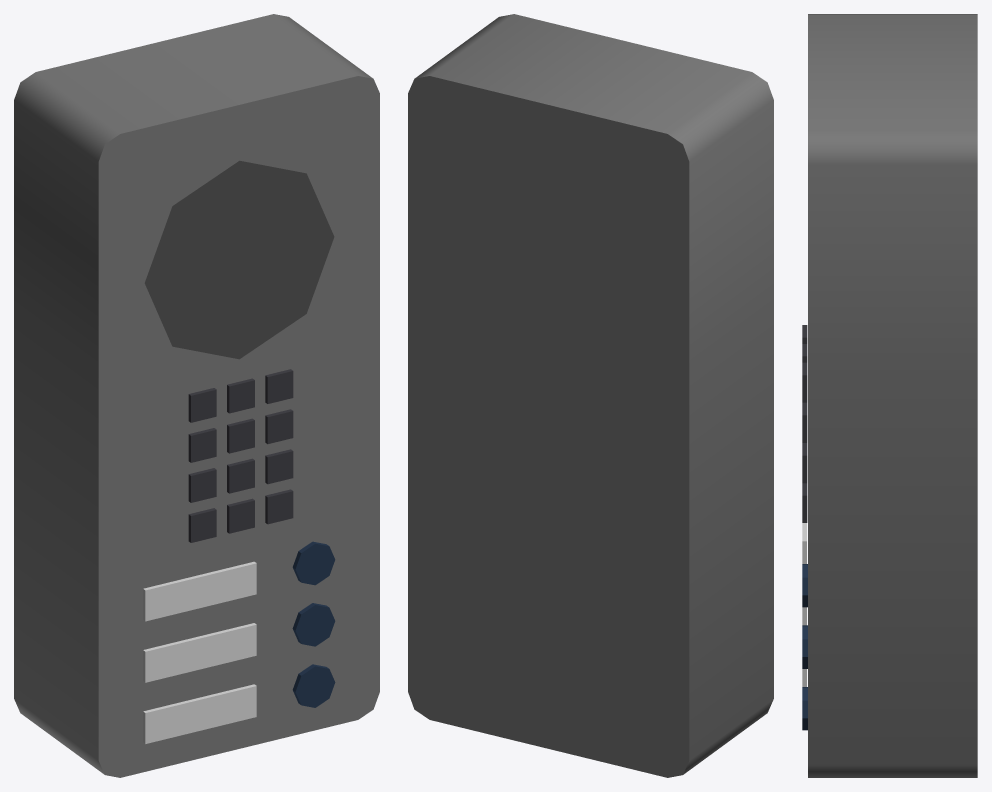
The model's file is Intercom_01.fbx.
The picture shows the model from 3 angles, left to right: view 1: azimuth 30°, elevation 25°; view 2: azimuth 150°, elevation 25°; view 3: azimuth 270°, elevation 25°; orthographic projection.
Visible parts, largest first — view 1: Intercom; view 2: Intercom; view 3: Intercom.
Part boxes in pixels (left/top/right/bottom): Intercom: left=14, top=14, right=379, bottom=777; Intercom: left=408, top=14, right=773, bottom=777; Intercom: left=802, top=14, right=977, bottom=777.
Bounding box in the file's own units: 0.192 × 0.42 × 0.1035.
